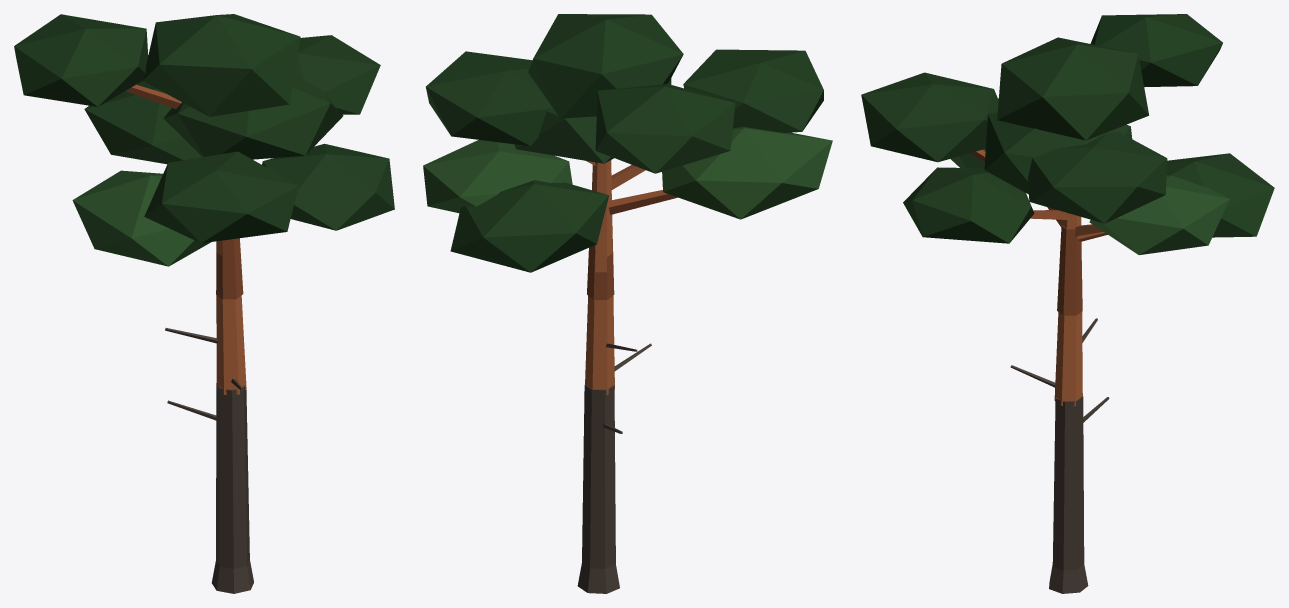
The model's file is forest_pine_b.glb.
3 renders of one model, left to right at view 1: azimuth 30°, elevation 25°; view 2: azimuth 150°, elevation 25°; view 3: azimuth 270°, elevation 25°, orthographic. The views are drawn at different scales.
Visible parts, largest first — view 1: forest_pine_b; view 2: forest_pine_b; view 3: forest_pine_b.
Boxes of the visible parts, bbox=[...] form: forest_pine_b: bbox=[14, 14, 394, 593]; forest_pine_b: bbox=[423, 14, 832, 593]; forest_pine_b: bbox=[861, 14, 1274, 593].
Size of the model in its own units: 5.2 by 8.63 by 6.03.
